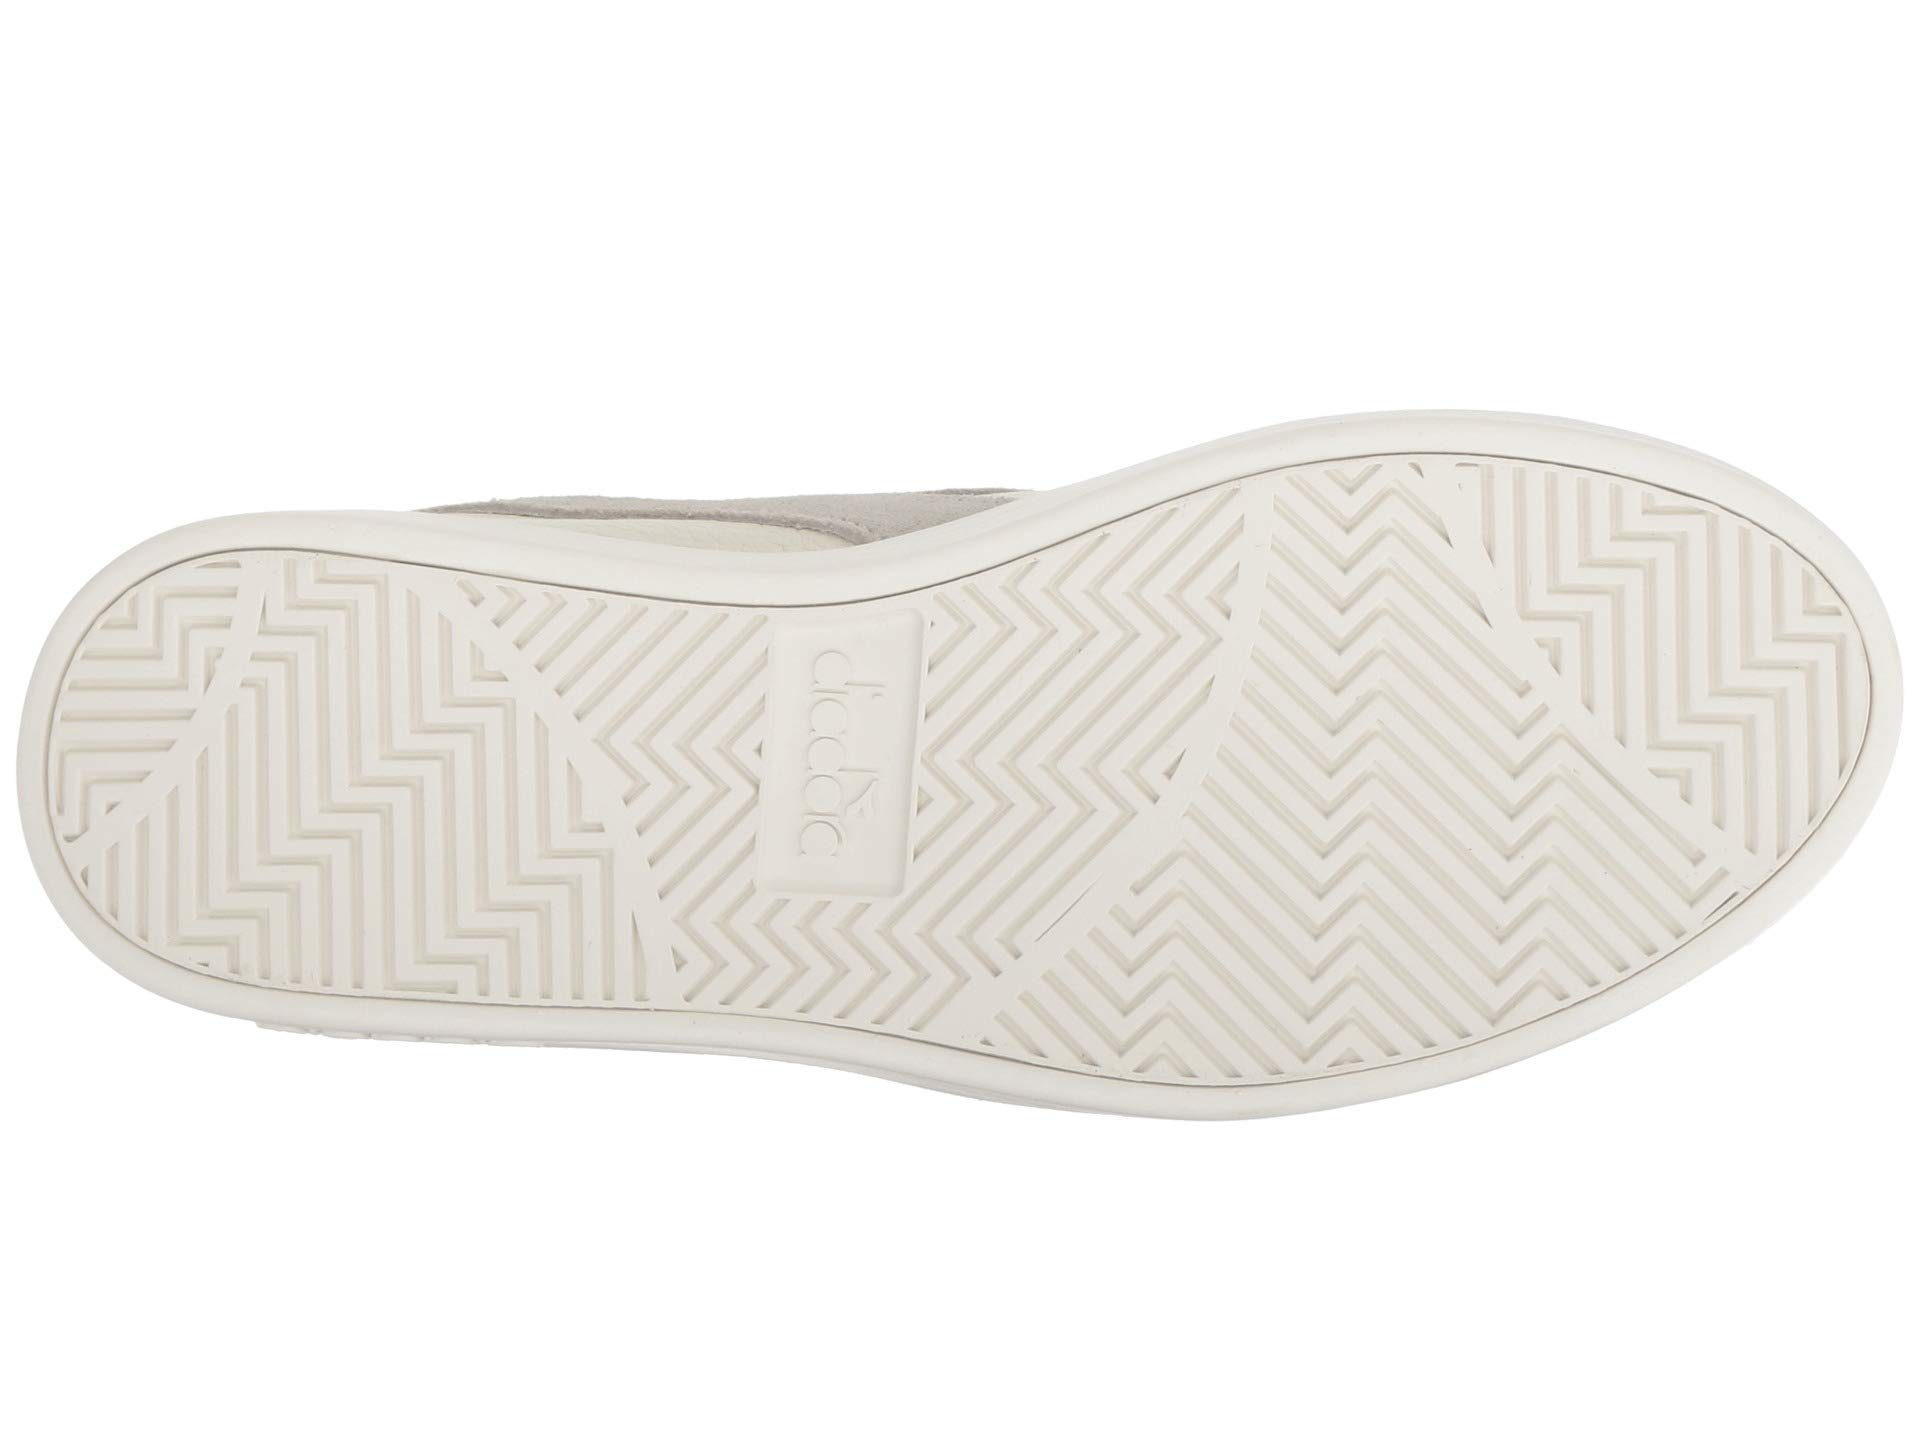chevron: (1206, 479, 1690, 959), (133, 569, 636, 982)
circle: (771, 594, 903, 891)
line: (1206, 479, 1690, 959), (133, 569, 636, 982), (771, 594, 903, 891)
quad: (771, 594, 903, 891)
text: (771, 594, 903, 891)
